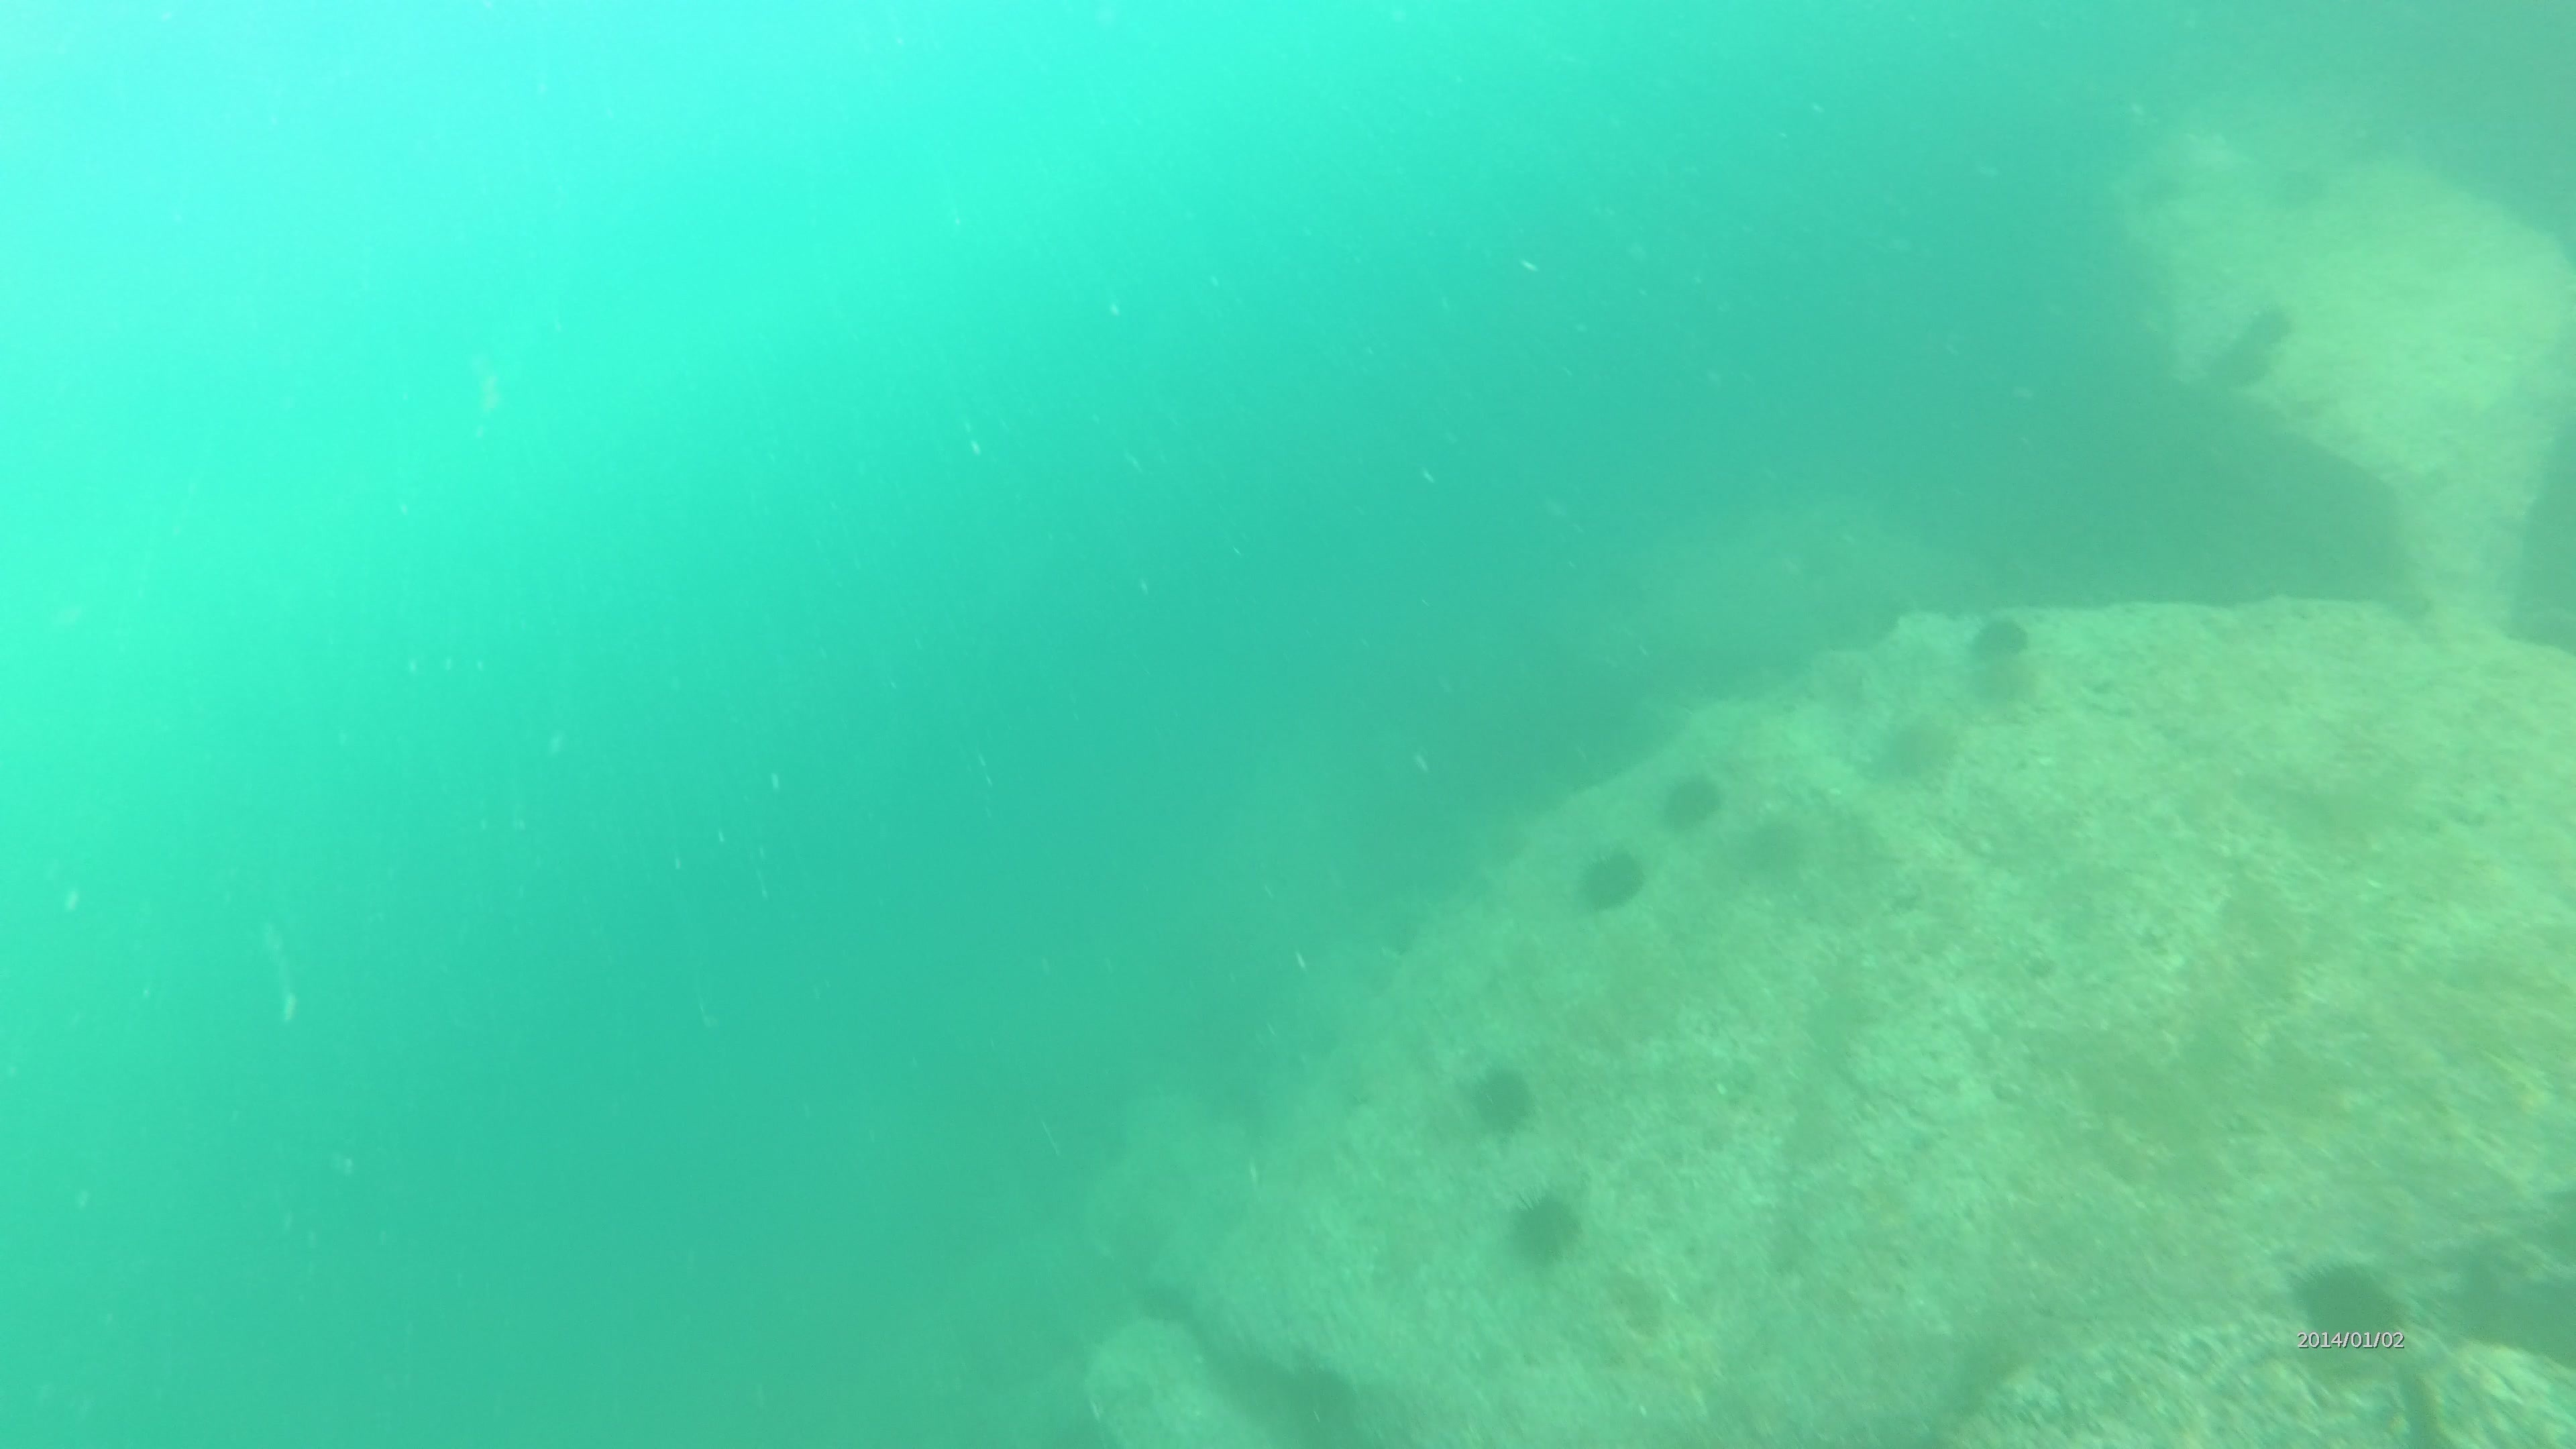echinus: (2288, 1253, 2411, 1355), (1500, 1182, 1589, 1272), (1870, 709, 1962, 791), (1460, 1054, 1543, 1139), (1736, 809, 1813, 888), (1569, 840, 1649, 916), (1654, 764, 1727, 835), (2263, 152, 2335, 218), (1962, 658, 2043, 711), (1959, 609, 2031, 663), (2204, 336, 2273, 384), (2250, 308, 2300, 350), (2143, 177, 2190, 202)
